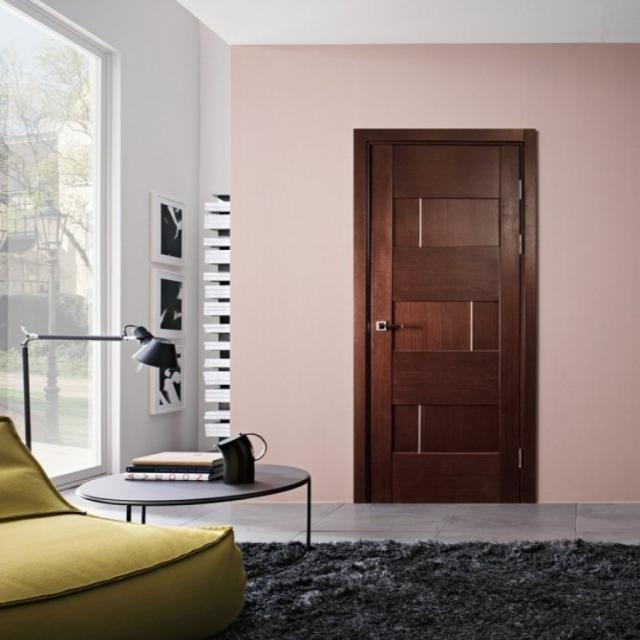close: (360, 130, 540, 502)
